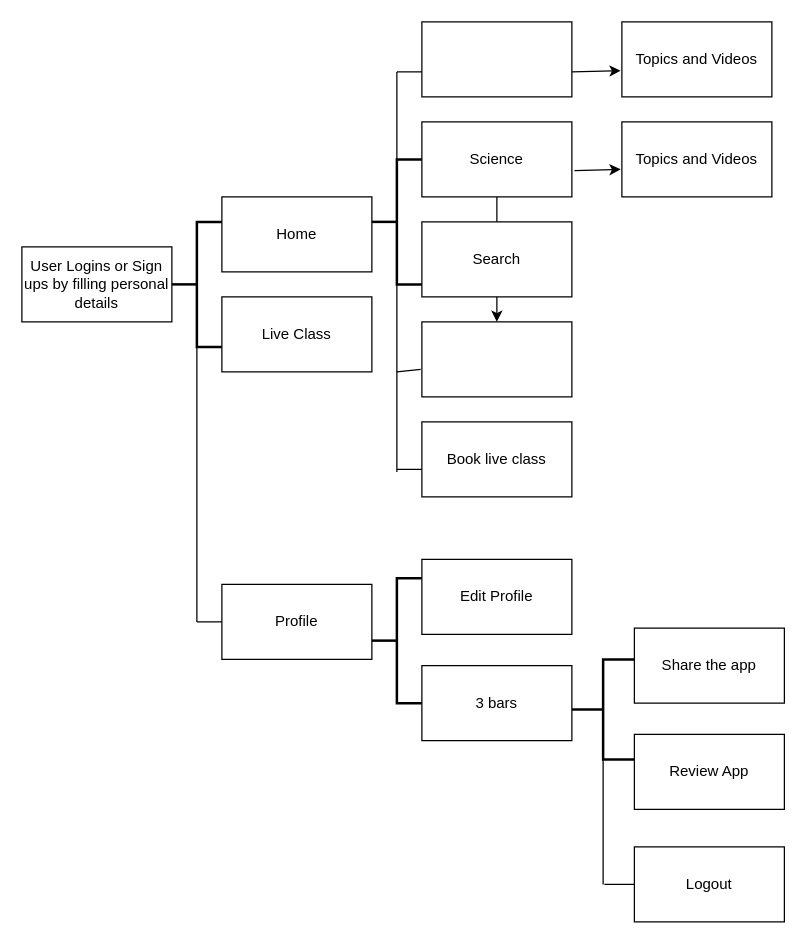
Some shapes in this 806 by 944 pixel diagram are drawn without their labels. Here are the shapes that lost their labels. From the top down, the centre of each, then its label:
At point 496,59: "Maths".
At point 496,359: "Continue Watching".
